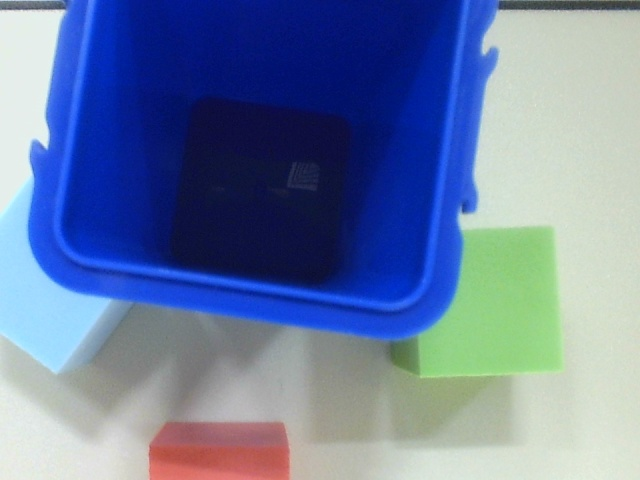greencube: (394, 219, 580, 388)
